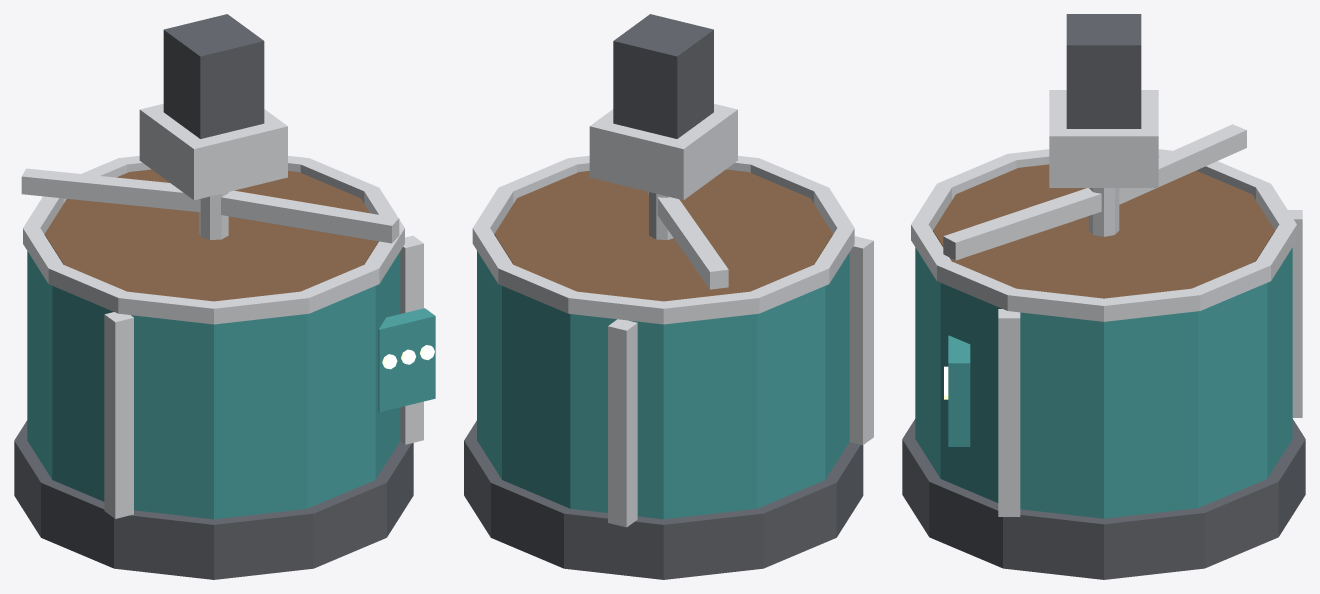
Rendered from chocolate-and-confectionery-factory-conche-vat-c80baa13__36764.glb.
The picture shows the model from 3 angles, left to right: view 1: azimuth 30°, elevation 25°; view 2: azimuth 150°, elevation 25°; view 3: azimuth 270°, elevation 25°; orthographic projection.
Visible parts, largest first — view 1: conche-vat, paddle-conche/steel; view 2: conche-vat, paddle-conche/steel; view 3: conche-vat, paddle-conche/steel.
Part boxes in pixels (x1,y1,x2,y2): conche-vat: [14, 14, 435, 579]; paddle-conche/steel: [199, 192, 228, 239]; conche-vat: [464, 14, 873, 579]; paddle-conche/steel: [649, 192, 673, 239]; conche-vat: [902, 14, 1305, 579]; paddle-conche/steel: [1088, 188, 1119, 236].
Size of the model in its own units: 1.84 by 2.34 by 1.84.
